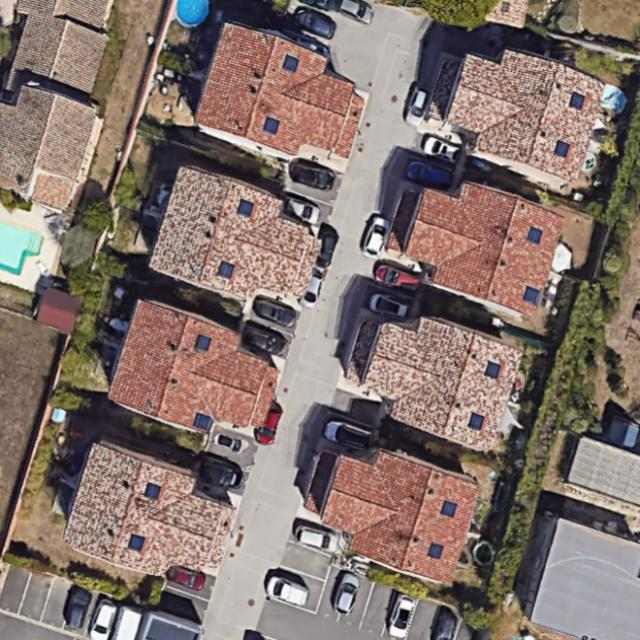maison: (417, 26, 611, 193), (100, 295, 289, 456), (55, 438, 245, 597), (292, 432, 483, 588), (335, 297, 524, 454), (190, 18, 377, 176), (380, 166, 565, 319), (146, 162, 330, 315)
